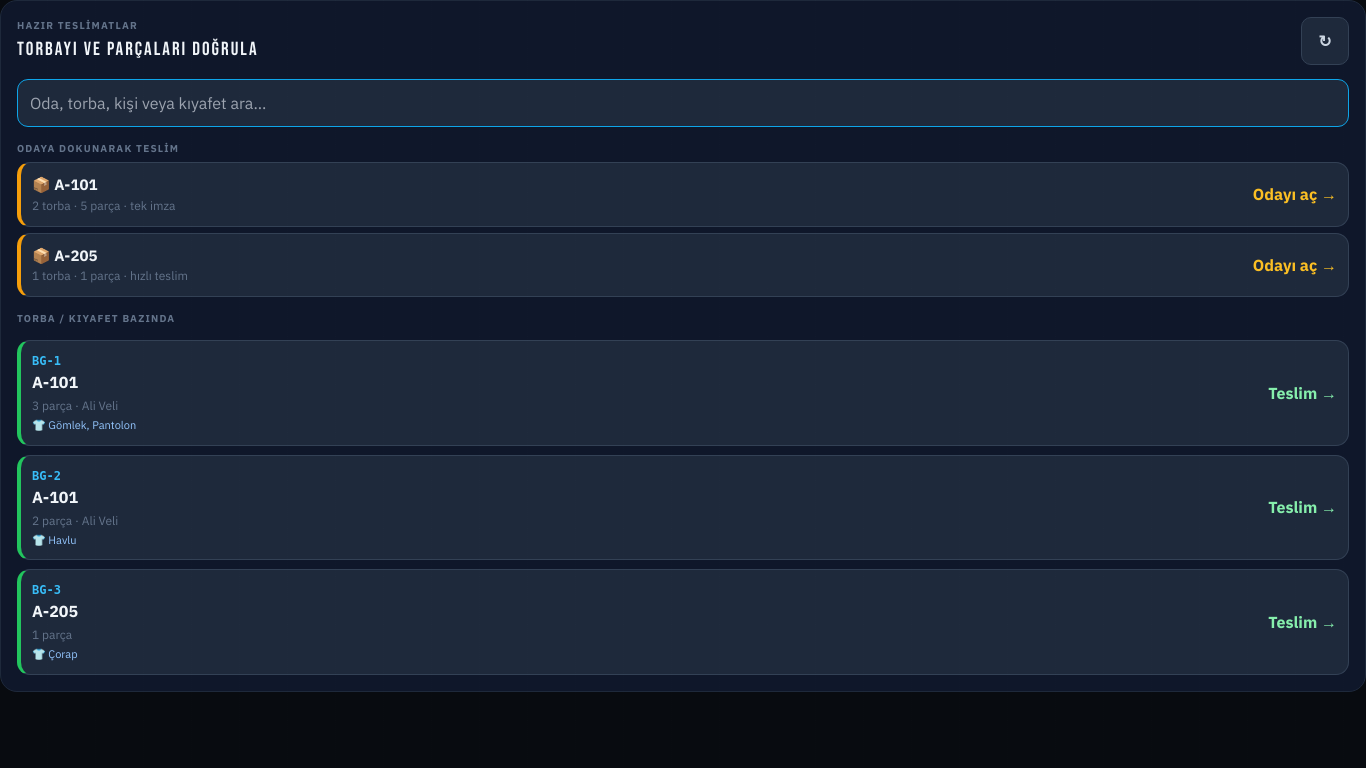
Scenario: oda bazlı toplu teslim › kısmi başarısızlık kullanıcıya bildirilir
Expected: the text "ODAYA DOKUNARAK TESLİM" is shown, [17, 142, 179, 155]
Click the button "📦 A-101 2 torba · 5 parça · tek imza Odayı aç →".
click(60, 205)  # box [17, 162, 1349, 226]
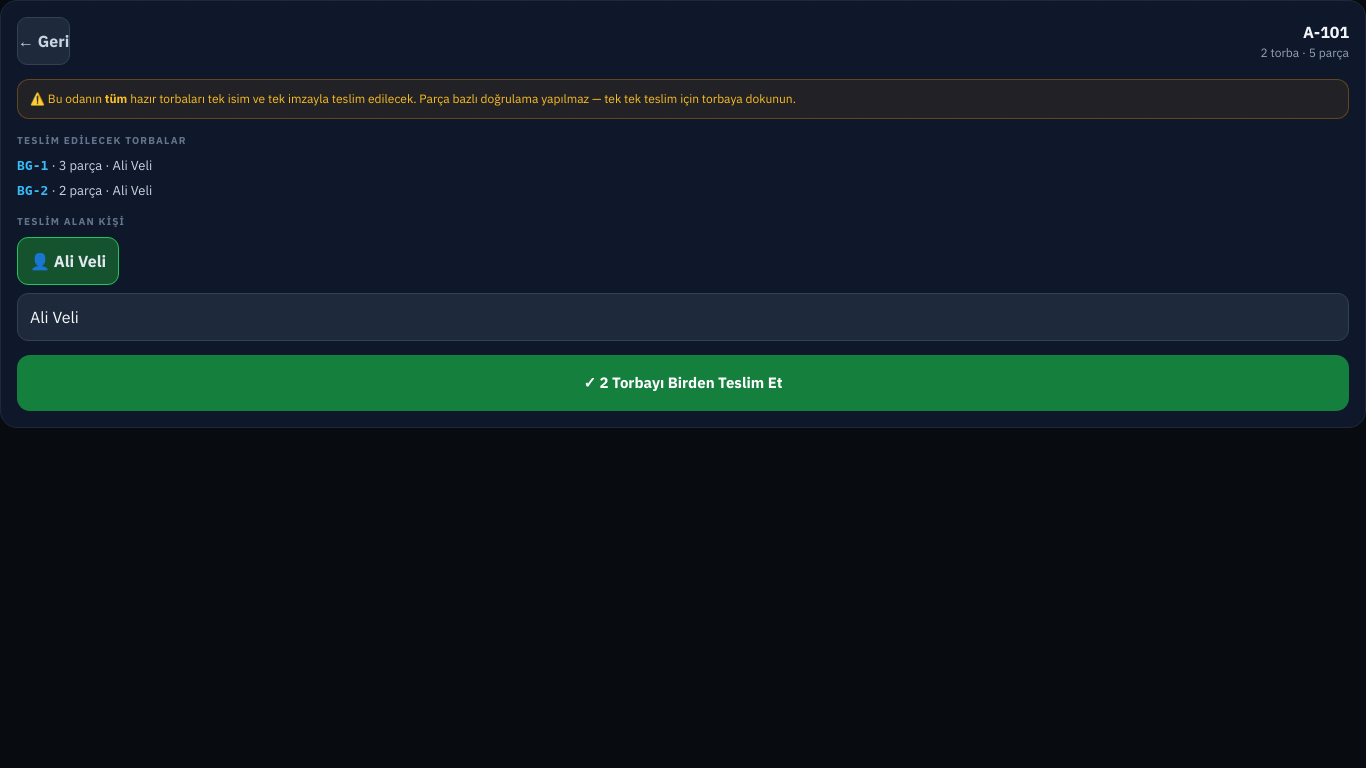
Expected: the text "TESLİM EDİLECEK TORBALAR" is shown, [17, 134, 187, 147]
Click the button "✓ 2 Torbayı Birden Teslim Et".
click(683, 383)  # box [17, 355, 1349, 411]
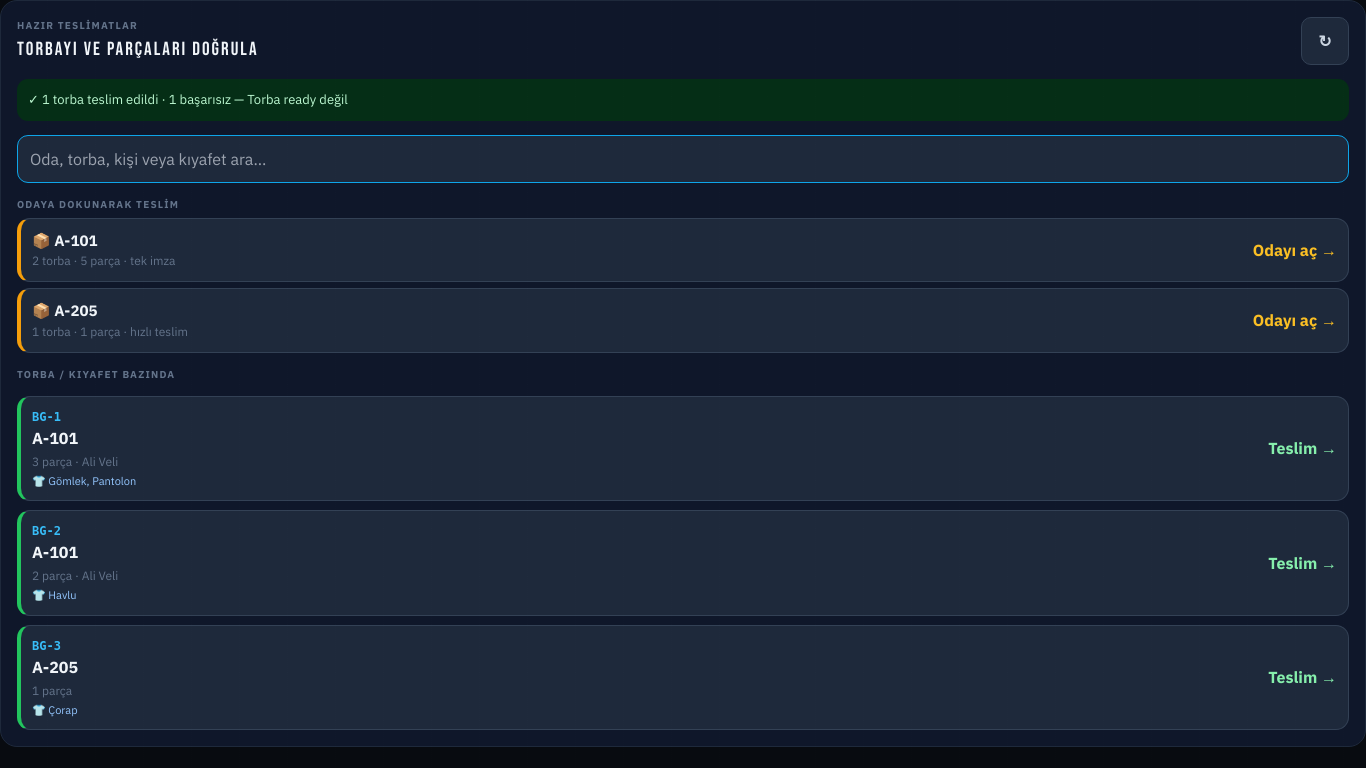
Expected: the text "✓ 1 torba teslim edildi · 1 başarısız — Torba ready değil" is shown, [17, 79, 1349, 120]
